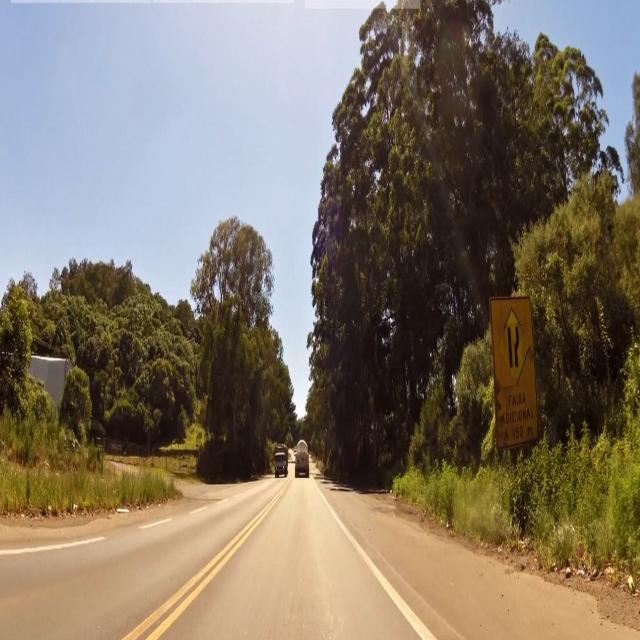A-21e: (499, 305, 530, 386)
